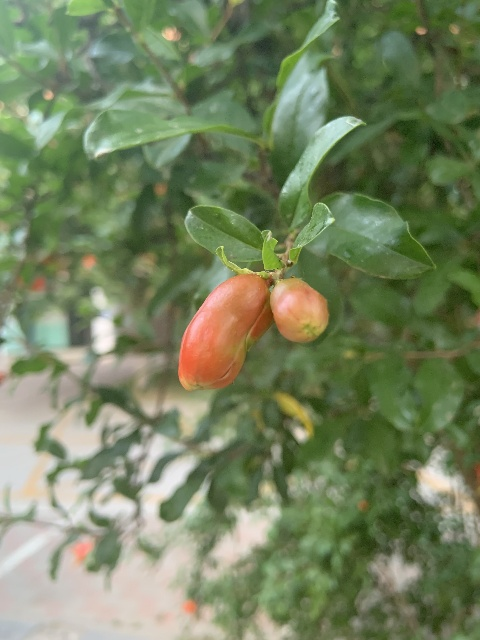bud: (178, 272, 270, 391), (270, 277, 329, 343)
